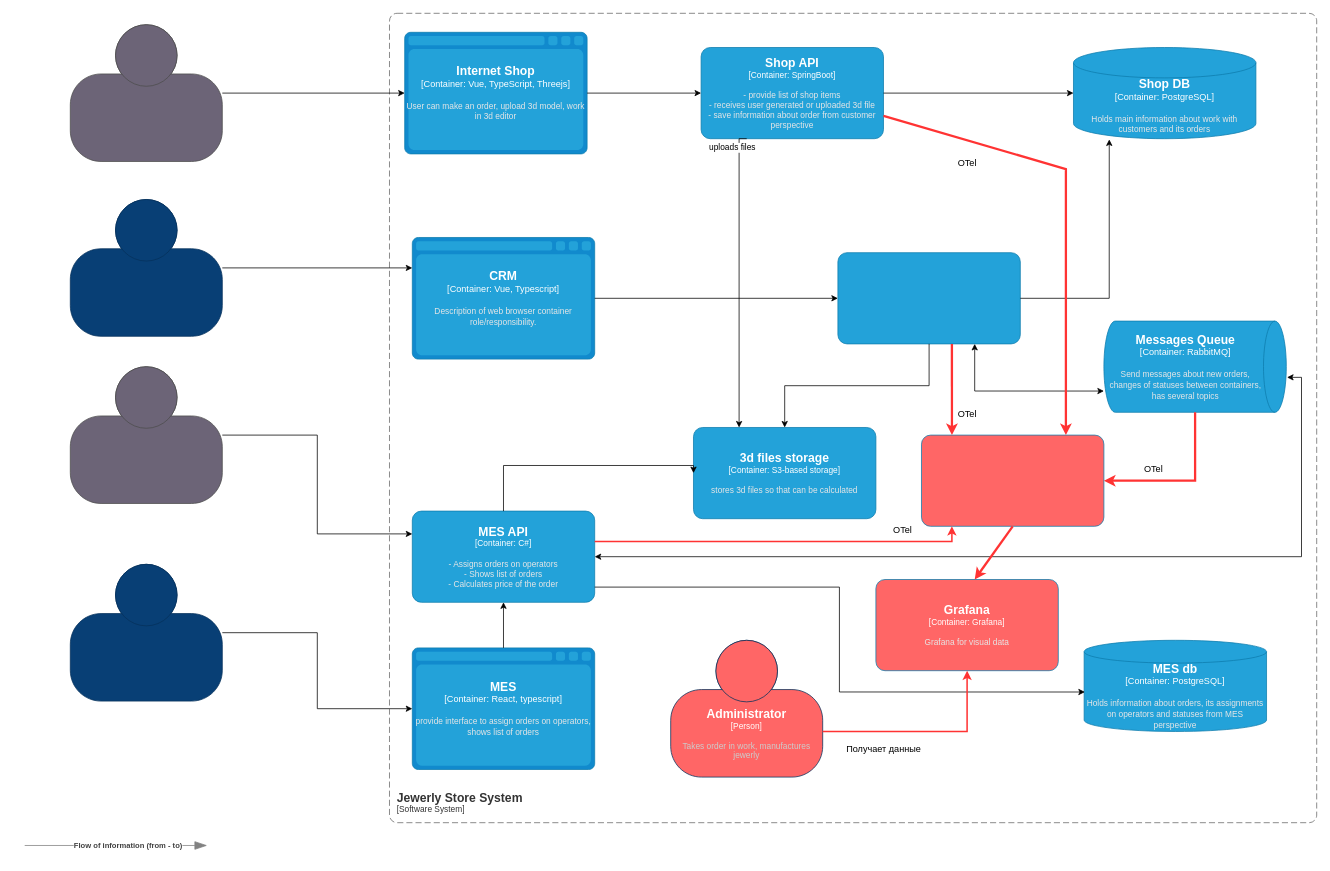
This 1330x871 diagram has some shape labels left out. Each missing label, with the box of its shape:
API user [Person] Description of external person.: (70, 366, 222, 504)
CRM API [Container: SpringBoot] Description of container role/responsibility.: (837, 252, 1020, 344)
Customer [Person] Description of external person.: (70, 24, 222, 162)
Jaeger [Container: Jaeger] Jaeger for tracing: (921, 434, 1104, 526)
Operator [Person] Takes order in work, manufactures jewerly: (70, 564, 222, 701)
Seller [Person] Operates with order, confirms manufacturing for the user: (70, 199, 222, 336)
